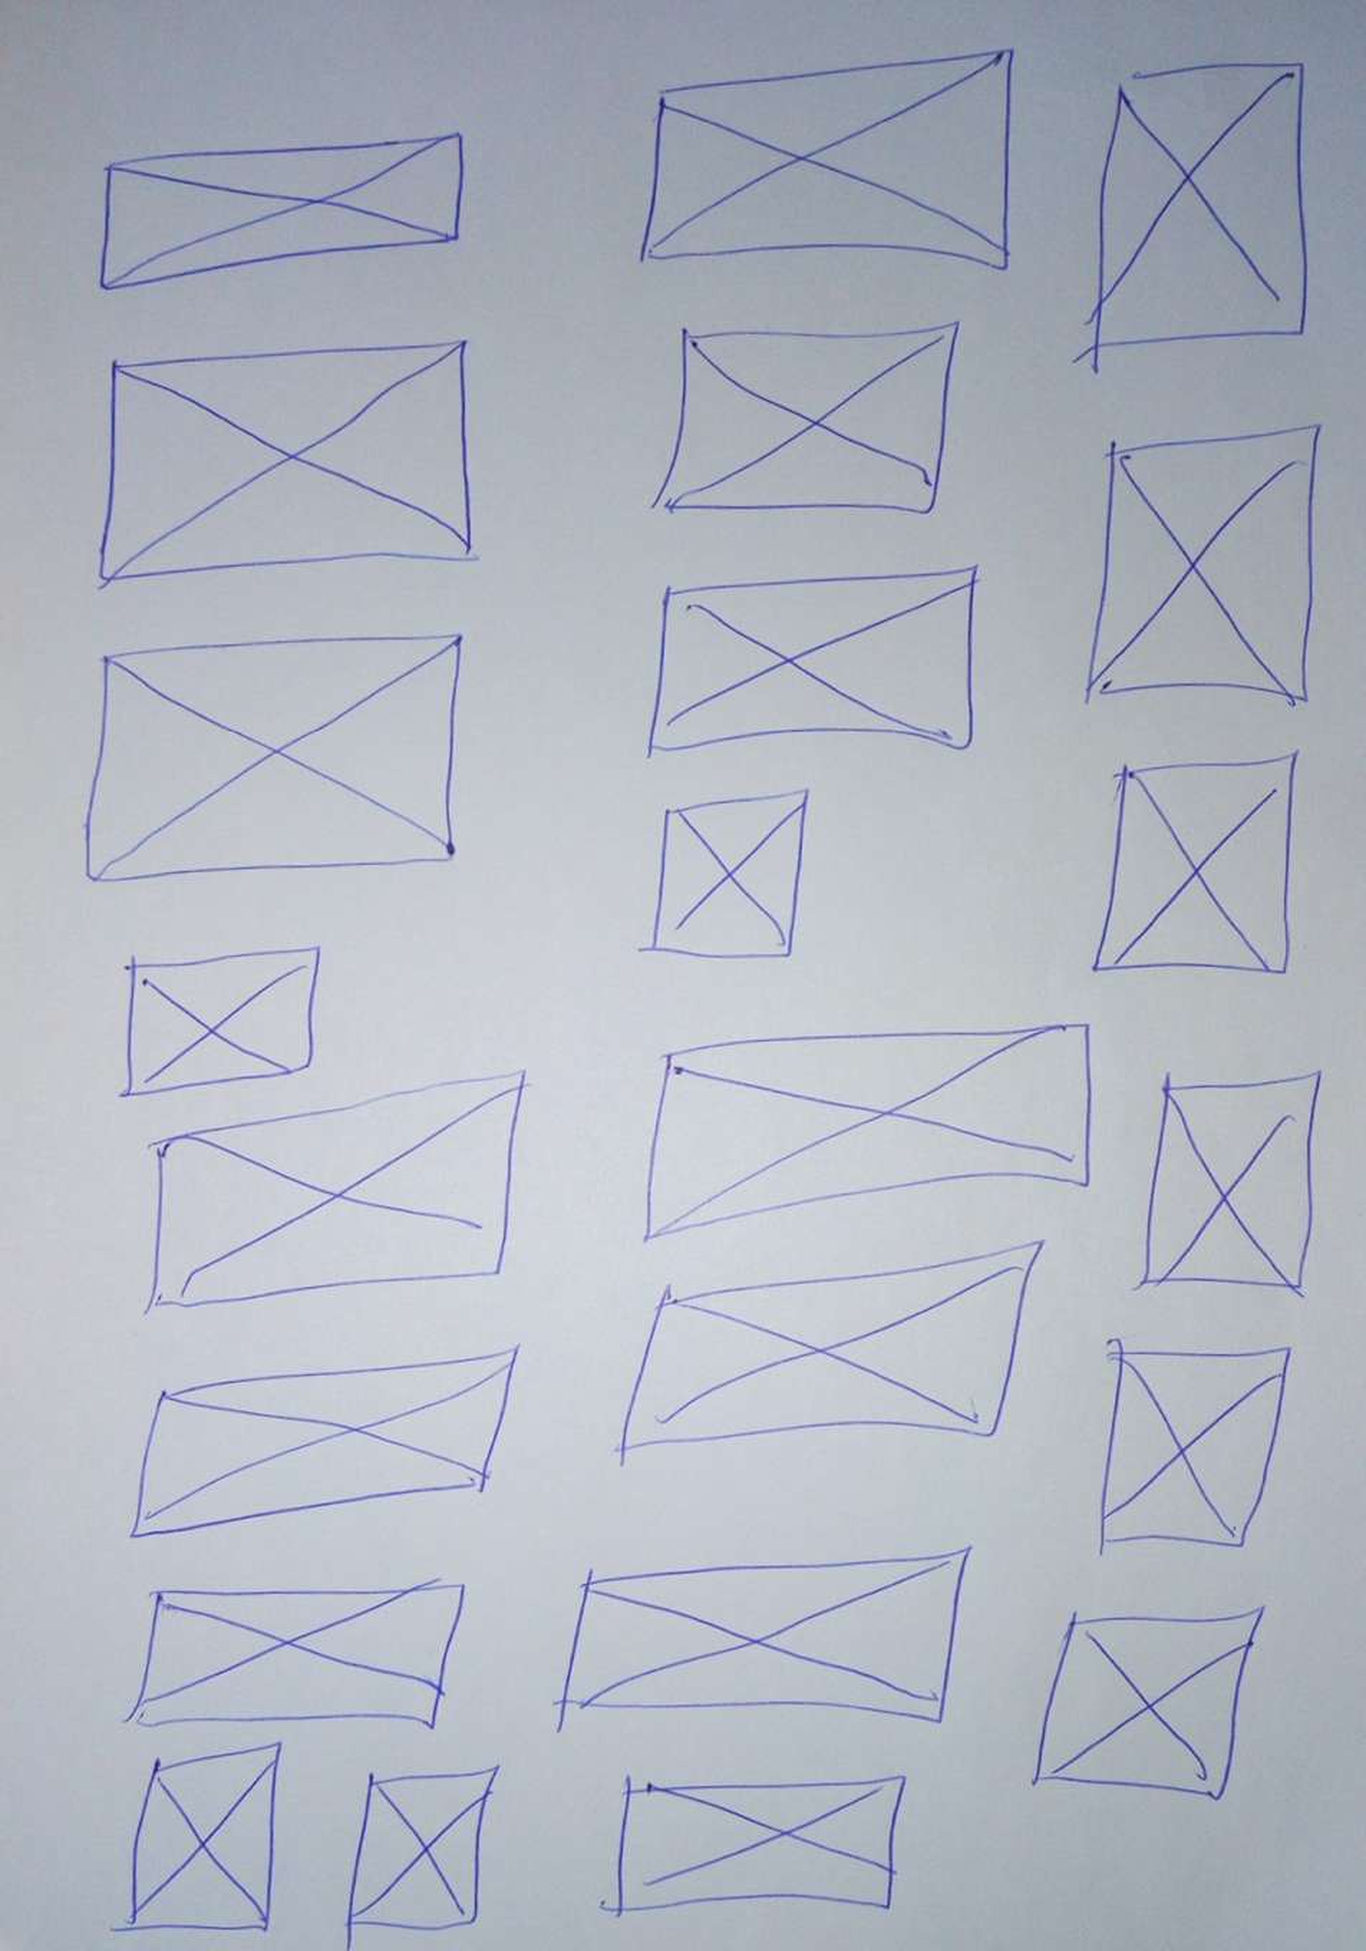Image: (639, 1020, 1096, 1245), (82, 630, 466, 887), (617, 1236, 1049, 1460), (96, 338, 475, 587), (142, 1093, 535, 1316), (636, 47, 1017, 274), (128, 1342, 525, 1540), (558, 1540, 974, 1727), (1081, 421, 1324, 707), (644, 563, 986, 761), (1092, 58, 1310, 359), (650, 317, 963, 517), (98, 130, 467, 291), (122, 1579, 470, 1729), (1026, 1603, 1267, 1806), (1136, 1069, 1329, 1293), (1098, 1339, 1296, 1555), (613, 1773, 908, 1918), (119, 944, 326, 1099), (125, 1740, 286, 1938), (644, 787, 811, 961), (343, 1764, 504, 1932)
